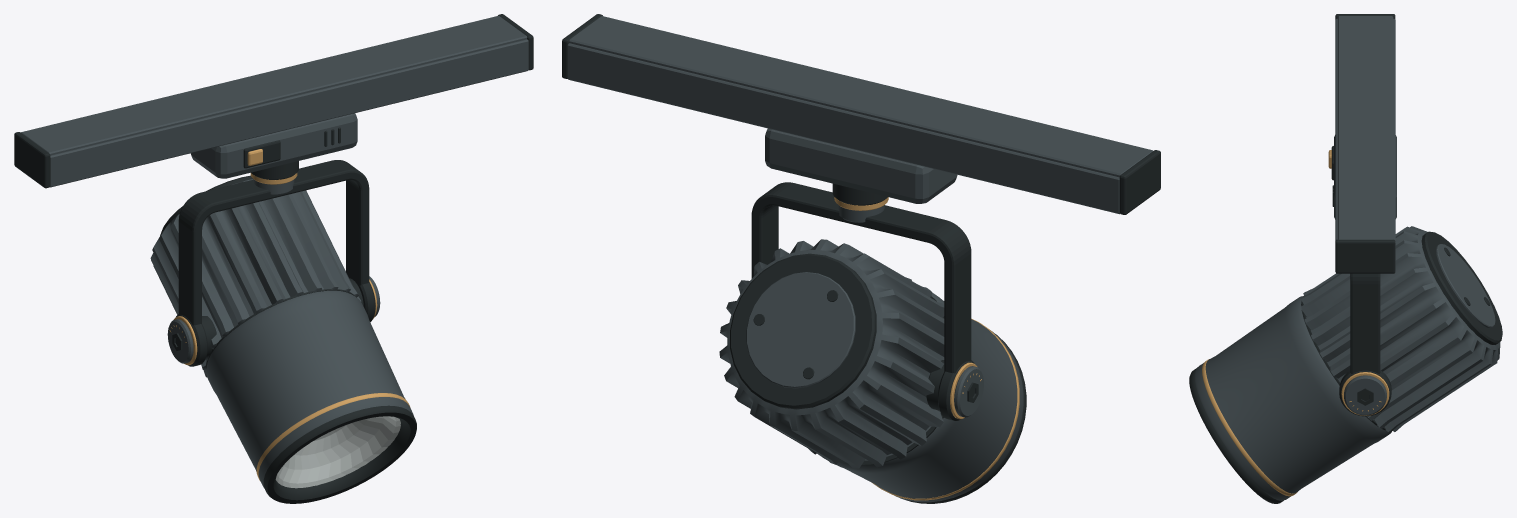
3 views of the same model, side by side, from view 1: azimuth 30°, elevation 25°; view 2: azimuth 150°, elevation 25°; view 3: azimuth 270°, elevation 25° (orthographic). The views are drawn at different scales.
Parts seen in each view (by area): view 1: Spotlight_L0; view 2: Spotlight_L0; view 3: Spotlight_L0.
Boxes of the visible parts, bbox=[...] form: Spotlight_L0: bbox=[14, 14, 533, 503]; Spotlight_L0: bbox=[562, 14, 1160, 503]; Spotlight_L0: bbox=[1189, 14, 1502, 503].
Size of the model in its own units: 0.36 by 0.2702 by 0.2089.
